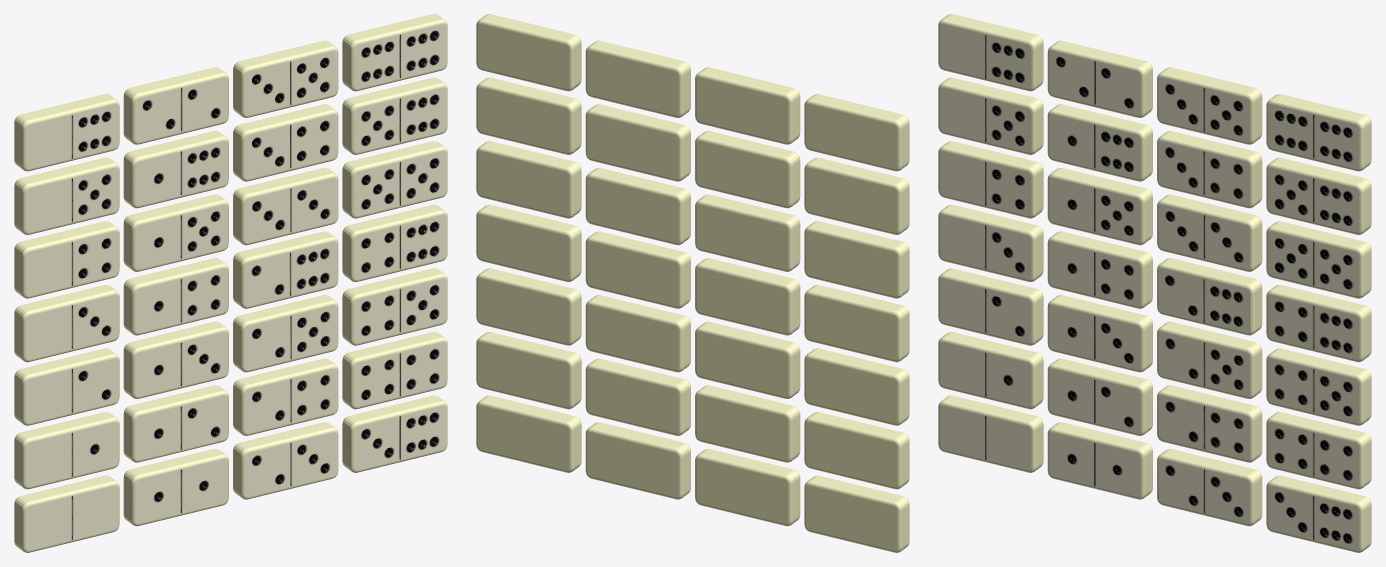
File: Dominoes3.glb
The picture shows the model from 3 angles, left to right: view 1: azimuth 30°, elevation 25°; view 2: azimuth 150°, elevation 25°; view 3: azimuth 330°, elevation 25°; orthographic projection.
Visible parts, largest first — view 1: G-Object.010, G-Object.019, G-Object.003, G-Object.024, G-Object.001, G-Object.005, G-Object.006, G-Object.008, G-Object.018, G-Object.020, G-Object.022, G-Object.026 (+16 smaller); view 2: G-Object.010, G-Object.019, G-Object.003, G-Object.024, G-Object.001, G-Object.005, G-Object.006, G-Object.008, G-Object.018, G-Object.020, G-Object.022, G-Object.026 (+16 smaller); view 3: G-Object.008, G-Object.018, G-Object, G-Object.027, G-Object.002, G-Object.005, G-Object.006, G-Object.010, G-Object.019, G-Object.020, G-Object.022, G-Object.025 (+16 smaller).
Part boxes in pixels (bbox=[...]): G-Object.010: bbox=[342, 268, 447, 345]; G-Object.019: bbox=[14, 221, 119, 298]; G-Object.003: bbox=[342, 395, 447, 472]; G-Object.024: bbox=[14, 94, 119, 171]; G-Object.001: bbox=[123, 449, 228, 526]; G-Object.005: bbox=[342, 332, 447, 409]; G-Object.006: bbox=[14, 412, 119, 489]; G-Object.008: bbox=[14, 348, 119, 425]; G-Object.018: bbox=[342, 141, 447, 218]; G-Object.020: bbox=[14, 157, 119, 234]; G-Object.022: bbox=[342, 77, 447, 154]; G-Object.026: bbox=[233, 40, 338, 117]; G-Object.010: bbox=[476, 268, 581, 345]; G-Object.019: bbox=[804, 221, 909, 298]; G-Object.003: bbox=[476, 395, 581, 472]; G-Object.024: bbox=[804, 94, 909, 171]; G-Object.001: bbox=[695, 449, 800, 526]; G-Object.005: bbox=[476, 332, 581, 409]; G-Object.006: bbox=[804, 412, 909, 489]; G-Object.008: bbox=[804, 348, 909, 425]; G-Object.018: bbox=[476, 141, 581, 218]; G-Object.020: bbox=[804, 157, 909, 234]; G-Object.022: bbox=[476, 77, 581, 154]; G-Object.026: bbox=[585, 40, 690, 117]; G-Object.008: bbox=[938, 268, 1043, 345]; G-Object.018: bbox=[1266, 221, 1371, 298]; G-Object: bbox=[938, 395, 1043, 472]; G-Object.027: bbox=[1266, 94, 1371, 171]; G-Object.002: bbox=[1157, 449, 1262, 526]; G-Object.005: bbox=[1266, 412, 1371, 489]; G-Object.006: bbox=[938, 332, 1043, 409]; G-Object.010: bbox=[1266, 348, 1371, 425]; G-Object.019: bbox=[938, 141, 1043, 218]; G-Object.020: bbox=[938, 77, 1043, 154]; G-Object.022: bbox=[1266, 157, 1371, 234]; G-Object.025: bbox=[1047, 40, 1152, 117].
Bounding box in the file's own units: 0.2222 × 0.2159 × 0.00953.
Materials: 2 (1 with a texture image).
